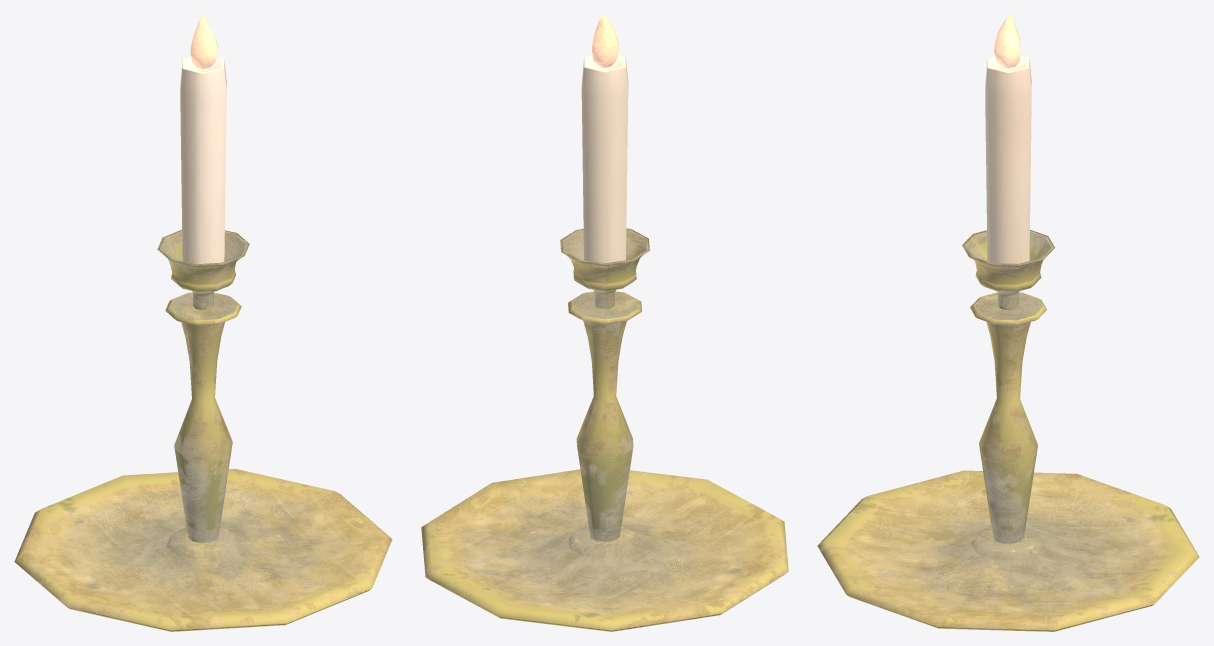
The model's file is BgMD_candlestand_0101.fbx.
3 views of the same model, side by side, from view 1: azimuth 30°, elevation 25°; view 2: azimuth 150°, elevation 25°; view 3: azimuth 270°, elevation 25° (orthographic).
Visible parts, largest first — view 1: Bg_candlestand_0101; view 2: Bg_candlestand_0101; view 3: Bg_candlestand_0101.
Boxes of the visible parts, box(x1,y1,x2,y2) form: Bg_candlestand_0101: box(14, 14, 392, 631); Bg_candlestand_0101: box(421, 14, 788, 631); Bg_candlestand_0101: box(817, 14, 1199, 631).
Size of the model in its own units: 58.12 by 93.75 by 59.78.
1 material, 1 textured.
